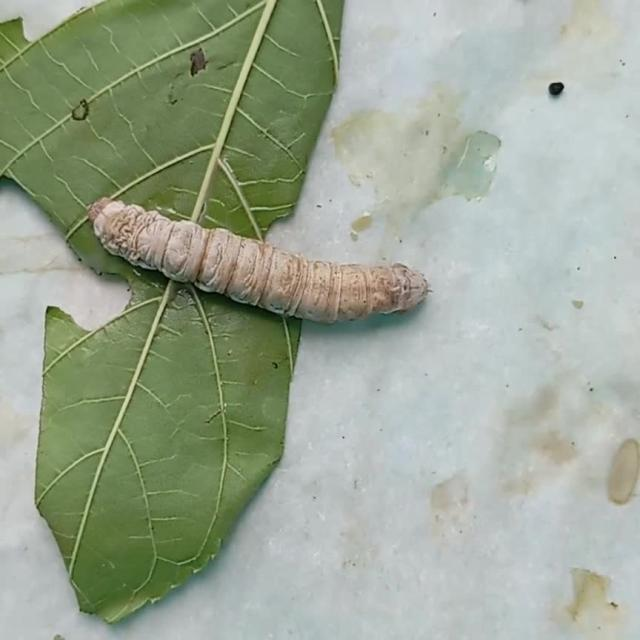Grasserie: (74, 186, 435, 350)
